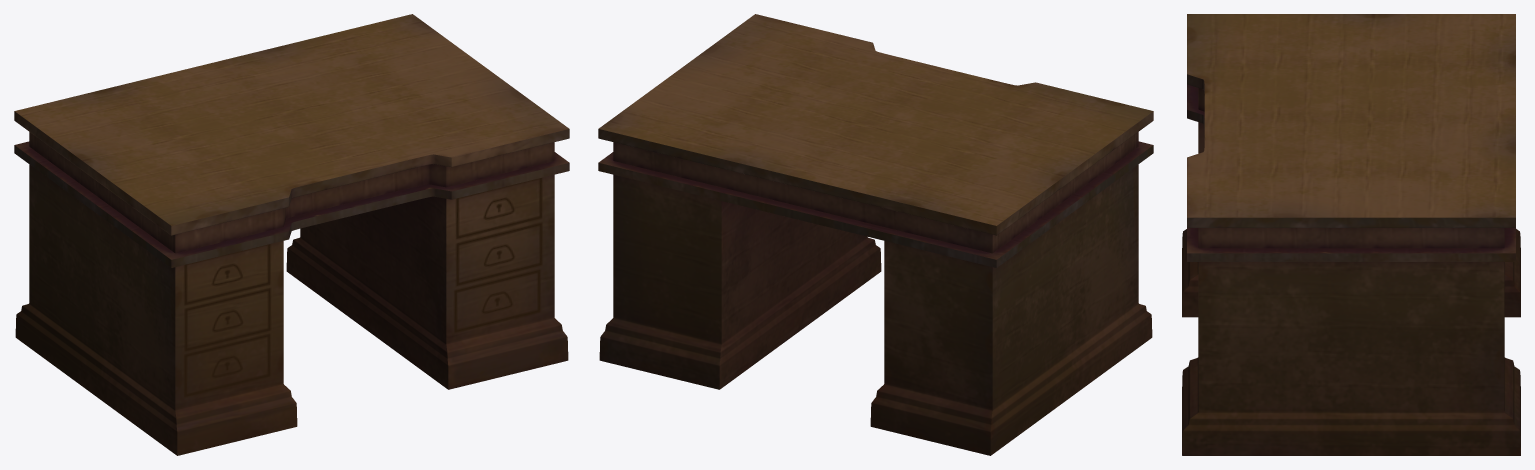
File: desk.glb
3 views of the same model, side by side, from view 1: azimuth 30°, elevation 25°; view 2: azimuth 150°, elevation 25°; view 3: azimuth 270°, elevation 25° (orthographic). The views are drawn at different scales.
Parts seen in each view (by area): view 1: Desk_cartoon; view 2: Desk_cartoon; view 3: Desk_cartoon.
Boxes of the visible parts, box(x1,y1,x2,y2) form: Desk_cartoon: box(14, 14, 569, 455); Desk_cartoon: box(598, 14, 1153, 455); Desk_cartoon: box(1182, 14, 1520, 455).
Bounding box in the file's own units: 1.88 × 1.04 × 1.32.
Materials: 1 (1 with a texture image).
